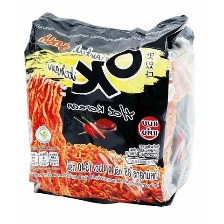snack: (16, 6, 203, 212)
